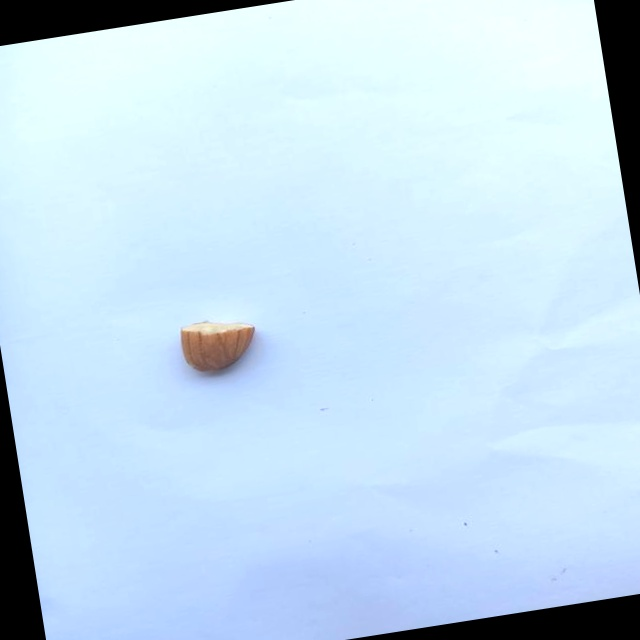grade4: (171, 308, 270, 384)
